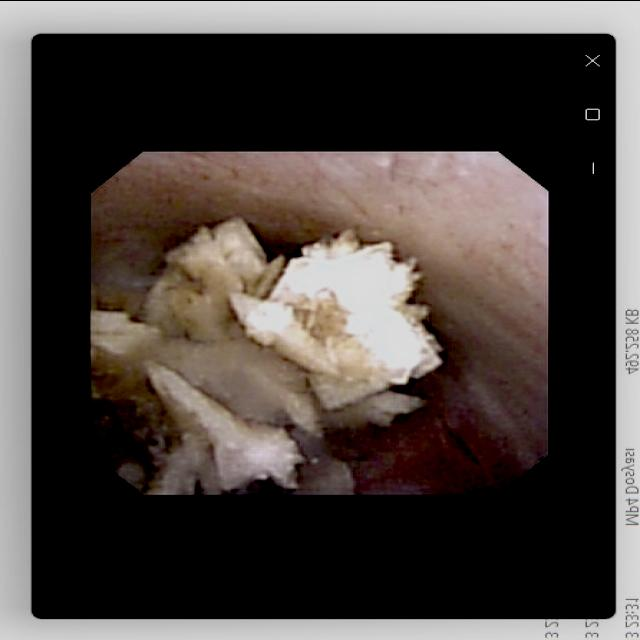stone: (98, 223, 436, 492)
